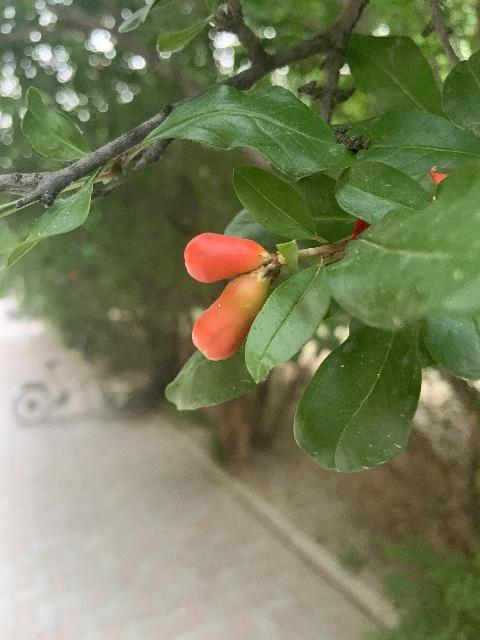bud: (192, 269, 270, 361), (183, 232, 268, 284)
